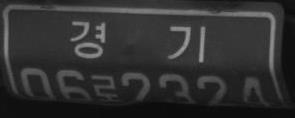0: (19, 66, 55, 102)
2: (196, 73, 239, 106), (120, 70, 155, 104)
3: (157, 71, 196, 106)
4: (241, 74, 272, 108)
6: (55, 67, 93, 104)
경기_D: (68, 18, 207, 64)
로: (93, 72, 120, 104)
